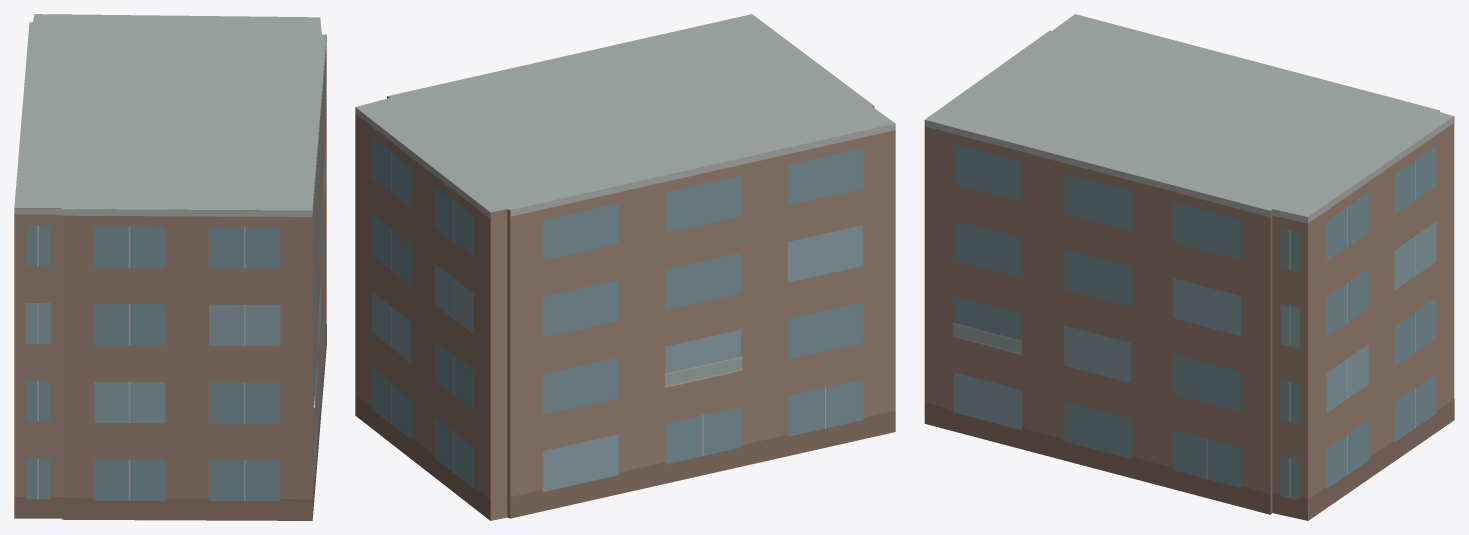
Rendered from survey-upis-32634779.glb.
The picture shows the model from 3 angles, left to right: view 1: azimuth 30°, elevation 25°; view 2: azimuth 150°, elevation 25°; view 3: azimuth 270°, elevation 25°; orthographic projection. The views are drawn at different scales.
Visible parts, largest first — view 1: survey-upis-32634779.tmp; view 2: survey-upis-32634779.tmp; view 3: survey-upis-32634779.tmp.
Part boxes in pixels (<box>): survey-upis-32634779.tmp: <box>14,14,326,520</box>; survey-upis-32634779.tmp: <box>355,14,895,520</box>; survey-upis-32634779.tmp: <box>924,14,1454,520</box>.
Bounding box in the file's own units: 16.56 × 11.55 × 18.26.
